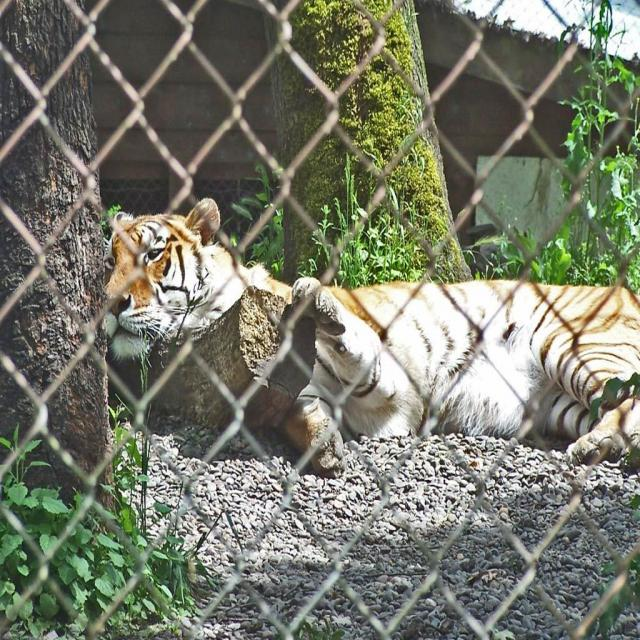Tiger: (103, 197, 640, 478)
